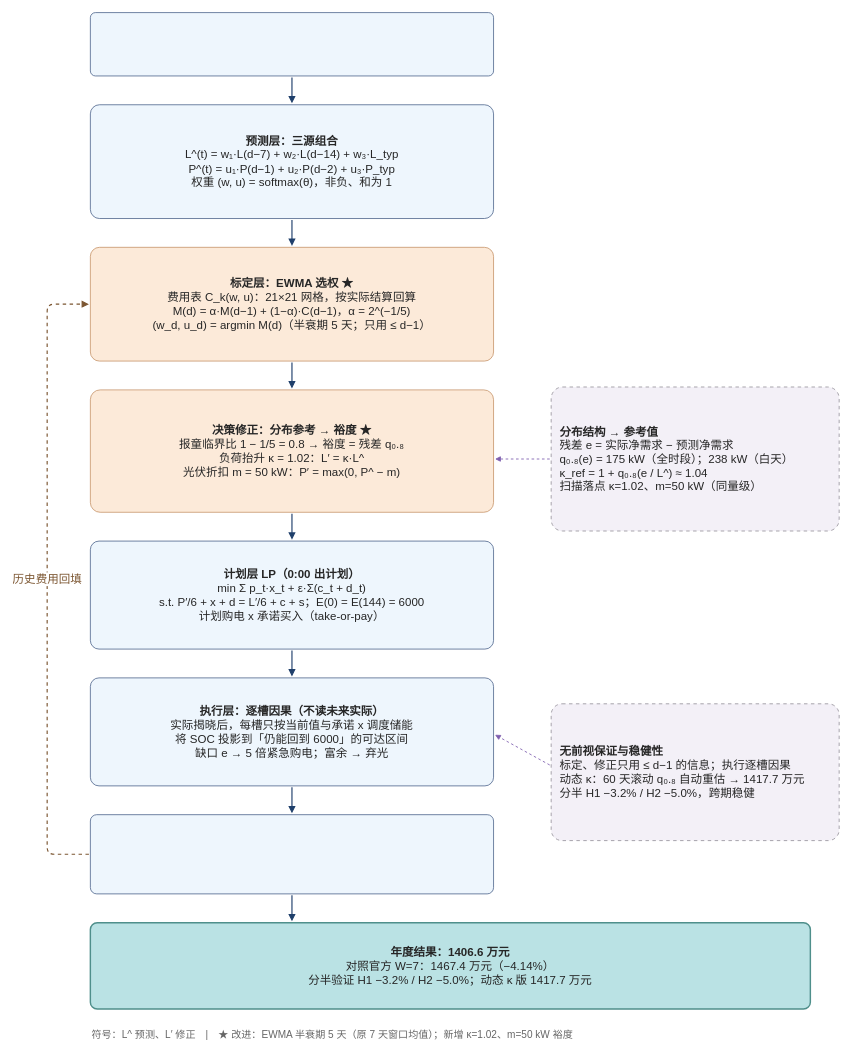
Some shapes in this 865 by 1058 pixel diagram are drawn without their labels. The box of each missing label's shape, as (x1, y1, x2, y2) in pixels:
数据（每天 0:00 可用） 附件 1：电价 p_t、典型日负荷与光伏曲线 附件 2：历史实际 L、P（仅 ≤ d−1）；Q2 不用附件 3 预报: (90, 12, 494, 76)
结算 C_d = Σ p_t·x_t + 5·Σ p_t·e_t 全年费用 = Σ_d C_d: (90, 814, 494, 894)
